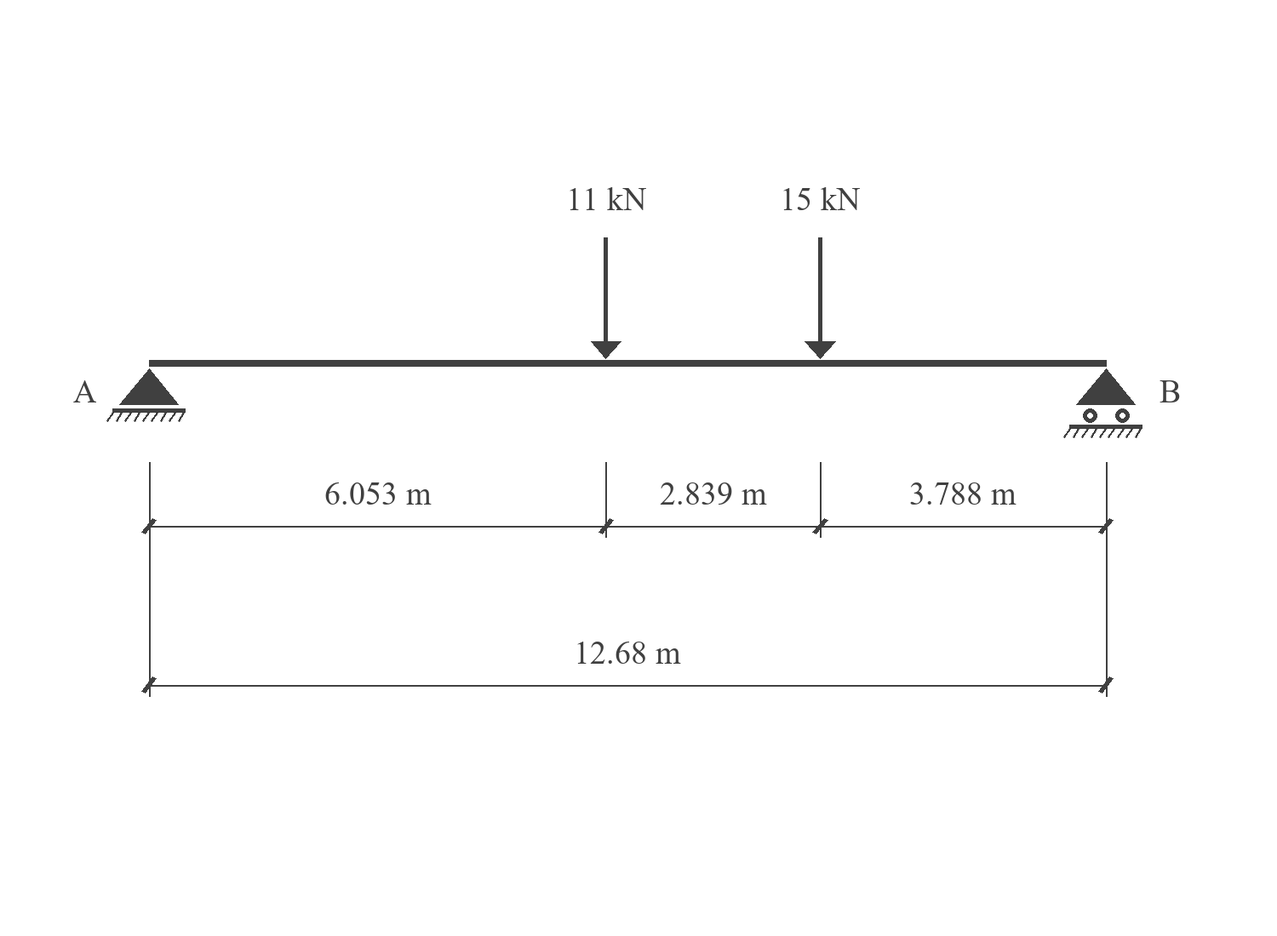pin_support: (106, 368, 186, 422)
point_load: (805, 237, 836, 359), (591, 237, 621, 359)
roller_support: (1063, 368, 1142, 438)
